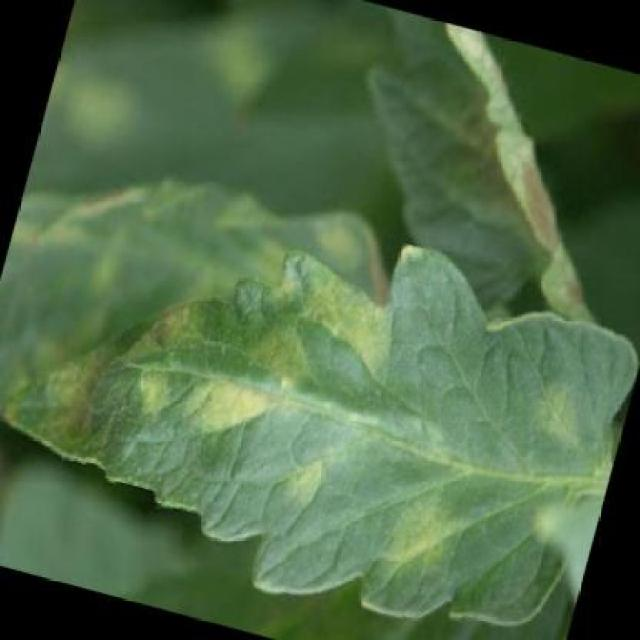Leaf Mold: (0, 127, 638, 638)
